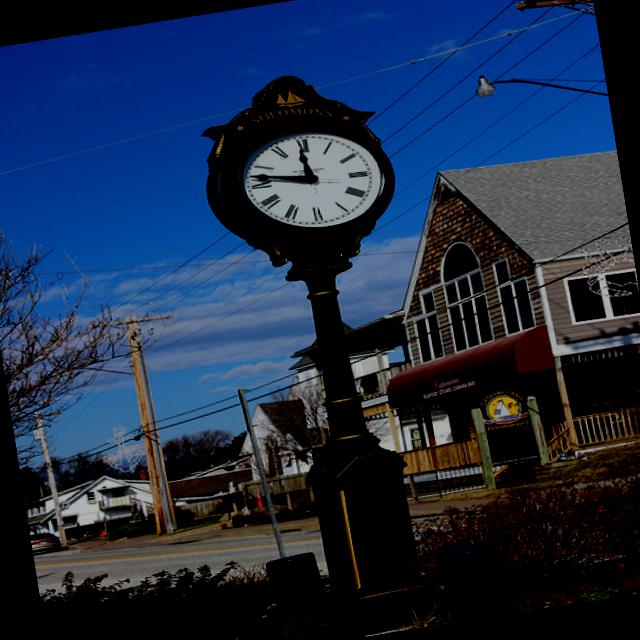Vehicle: (30, 530, 60, 554)
